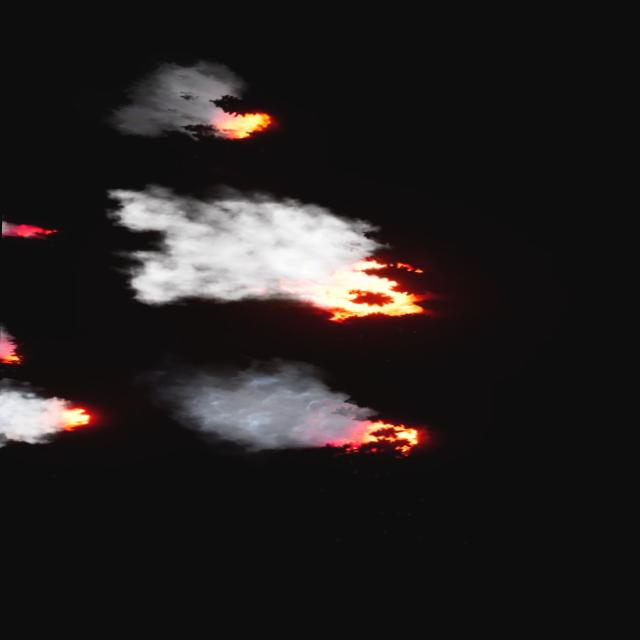fire: (280, 250, 430, 324), (325, 418, 420, 458), (216, 104, 272, 139), (55, 404, 91, 431), (0, 332, 25, 363), (2, 222, 52, 234)
smoke: (110, 186, 382, 307), (165, 362, 362, 450), (102, 58, 232, 136), (0, 384, 63, 448)
